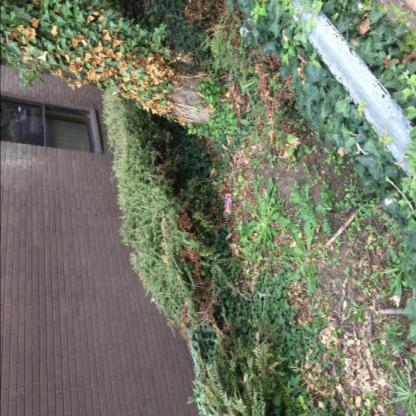Can: (225, 194, 233, 214)
